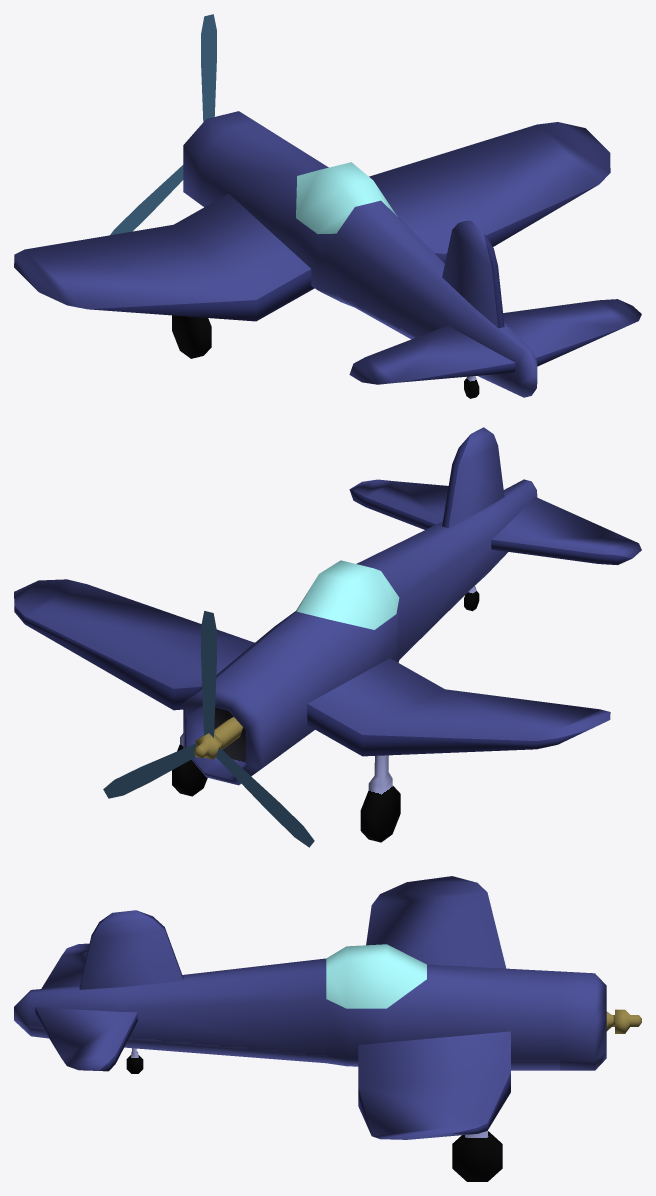
The picture shows the model from 3 angles, top to bottom: view 1: azimuth 30°, elevation 25°; view 2: azimuth 150°, elevation 25°; view 3: azimuth 270°, elevation 25°; orthographic projection. The views are drawn at different scales.
Visible parts, largest first — view 1: Aircraft, Prop, LeftWheel; view 2: Aircraft, Prop, LeftWheel, RightWheel; view 3: Aircraft, RightWheel, Prop.
Part boxes in pixels (bbox=[...]): Aircraft: bbox=[14, 111, 641, 397]; Prop: bbox=[110, 14, 216, 235]; LeftWheel: bbox=[172, 315, 211, 358]; Aircraft: bbox=[14, 427, 641, 785]; Prop: bbox=[103, 611, 314, 847]; LeftWheel: bbox=[360, 755, 400, 842]; RightWheel: bbox=[172, 733, 207, 796]; Aircraft: bbox=[14, 876, 606, 1139]; RightWheel: bbox=[452, 1130, 502, 1181]; Prop: bbox=[606, 1009, 641, 1033].
Size of the model in its own units: 2.27 by 0.9813 by 2.34.
1 material, 1 textured.
